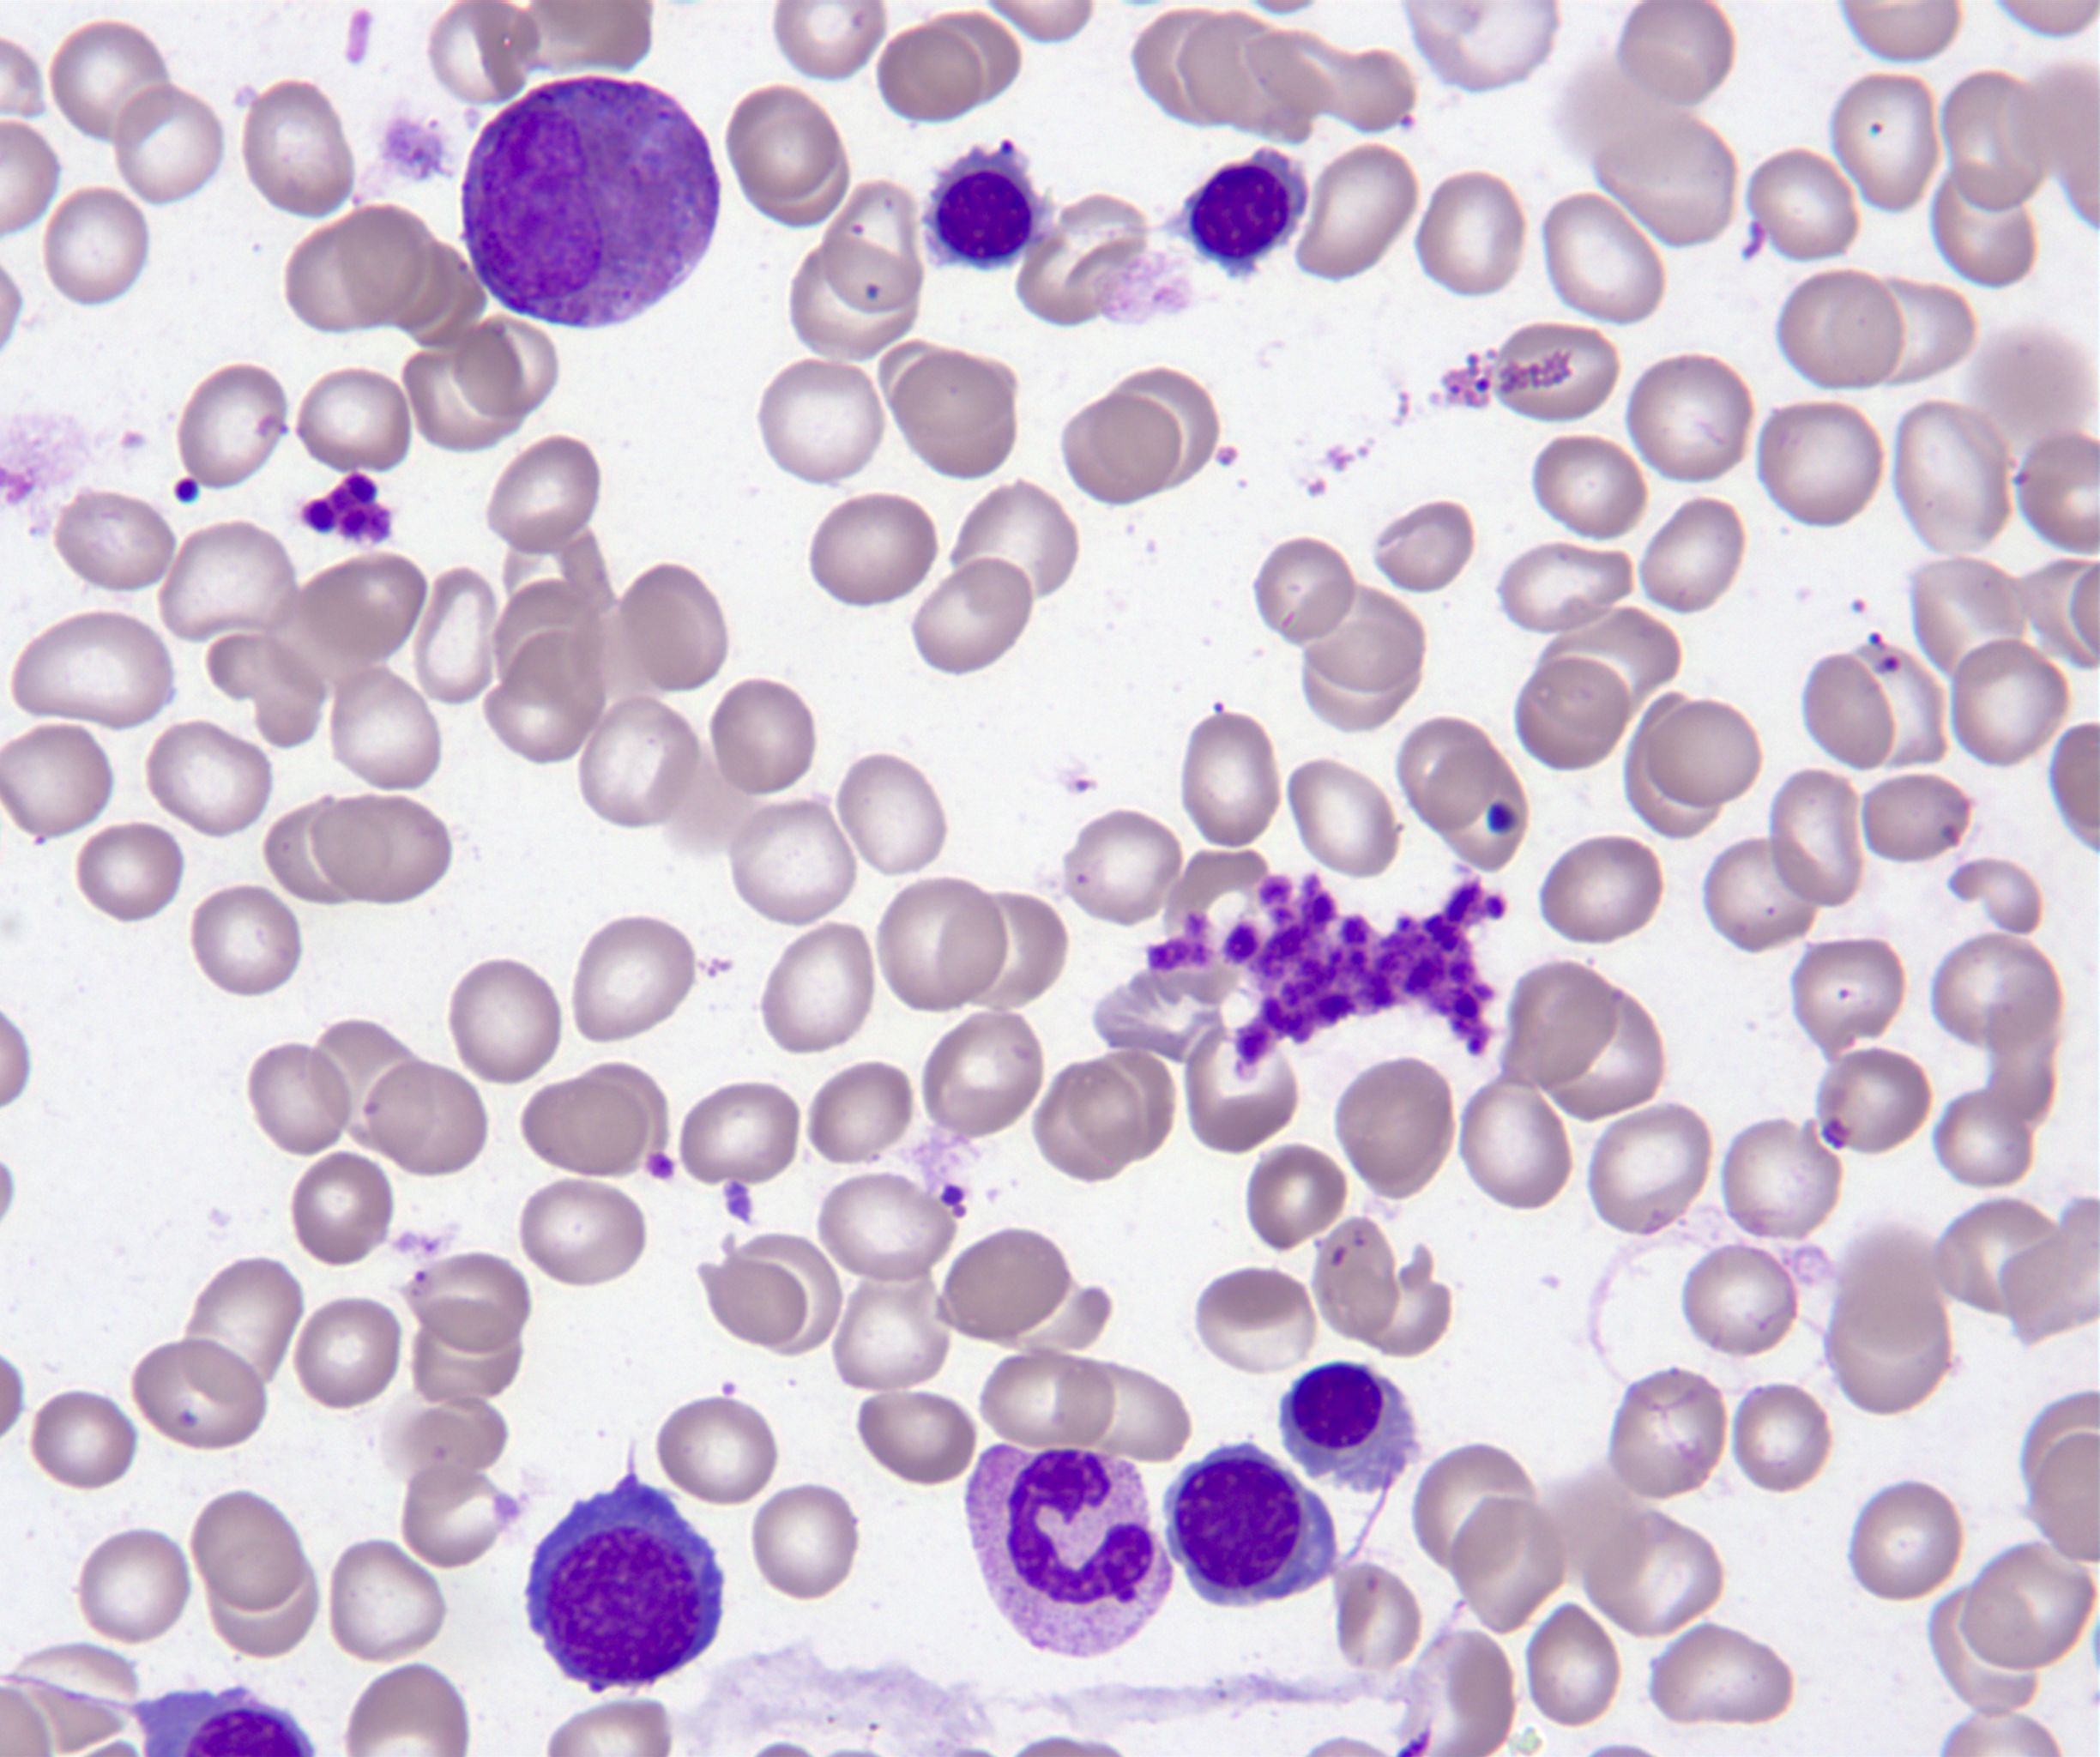23: (525, 1441, 724, 1696), (1163, 1446, 1336, 1605)
24: (1162, 147, 1306, 283), (919, 136, 1048, 272), (1284, 1364, 1420, 1490)
5: (968, 1446, 1174, 1659)
E1: (462, 75, 724, 330)
